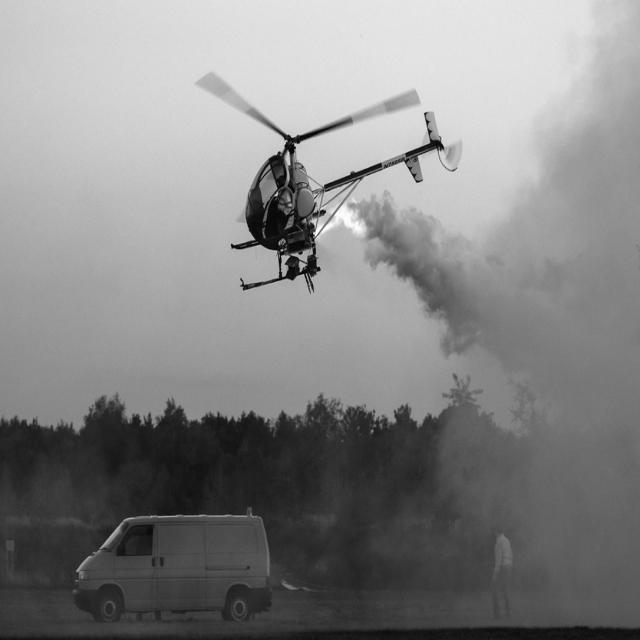helicopter: (193, 75, 474, 291)
